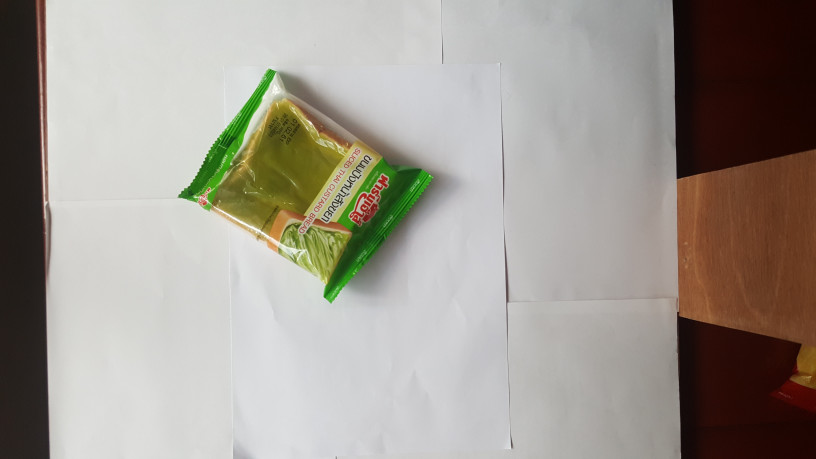farmhouse-bread-pandan: (163, 74, 439, 302)
